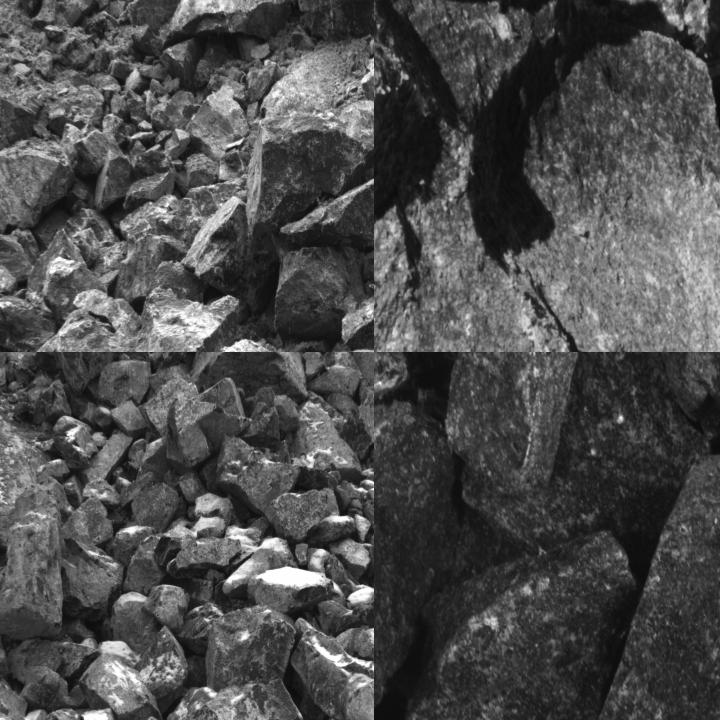stone: (374, 0, 719, 351), (460, 352, 709, 562), (551, 452, 719, 719), (406, 528, 639, 719), (374, 386, 458, 719), (244, 100, 373, 260), (448, 352, 577, 501), (566, 352, 719, 440), (0, 479, 72, 641), (182, 195, 280, 313), (273, 244, 365, 338), (290, 617, 373, 719), (275, 177, 373, 260), (205, 606, 297, 692), (113, 291, 244, 351), (165, 378, 250, 470), (0, 138, 77, 235), (155, 0, 294, 51), (154, 174, 248, 248), (216, 436, 300, 514), (292, 399, 362, 490), (34, 296, 141, 351), (80, 653, 163, 719), (188, 352, 304, 399), (186, 81, 253, 161), (166, 681, 301, 719), (62, 538, 122, 620), (247, 567, 345, 617), (124, 528, 194, 596), (137, 628, 188, 714), (224, 536, 294, 596), (269, 488, 342, 545), (7, 640, 99, 682), (0, 293, 57, 351), (119, 194, 179, 248), (111, 591, 160, 656), (299, 0, 373, 41), (80, 431, 134, 487), (63, 496, 120, 549), (170, 535, 243, 576), (95, 149, 138, 212), (57, 352, 123, 392), (132, 482, 186, 530), (130, 0, 204, 35), (0, 222, 41, 285), (21, 664, 74, 712), (94, 362, 151, 405), (52, 417, 100, 467), (76, 130, 124, 176), (161, 37, 201, 90), (244, 387, 280, 444), (124, 172, 174, 212), (147, 586, 189, 632), (340, 292, 373, 350), (342, 405, 373, 459), (132, 143, 176, 181), (335, 627, 373, 670), (32, 380, 69, 424), (82, 480, 122, 510)
